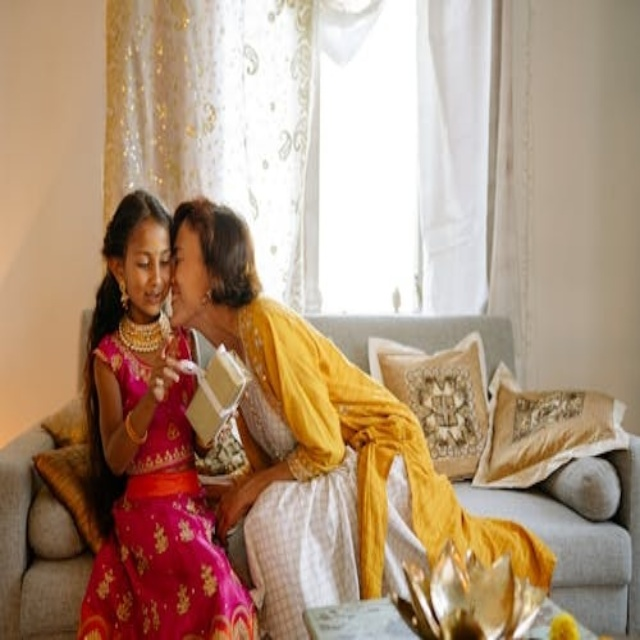Sin_gafas: (129, 244, 174, 273)
Sin_guantes: (142, 327, 189, 404), (213, 473, 262, 540)
Sin_mascara: (166, 284, 193, 325), (137, 283, 166, 309)
